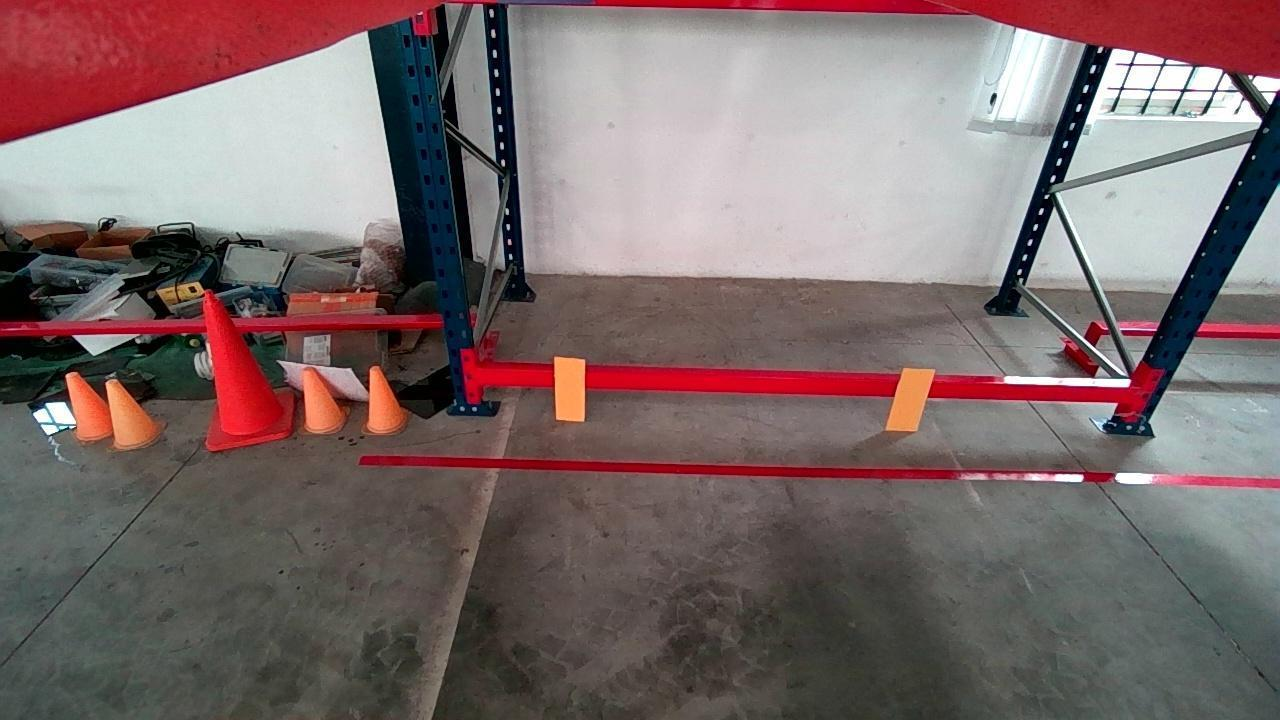h_rack: (477, 366, 1147, 405)
orange_strip: (888, 368, 933, 429), (555, 357, 587, 418)
red_line: (355, 448, 1278, 490)
